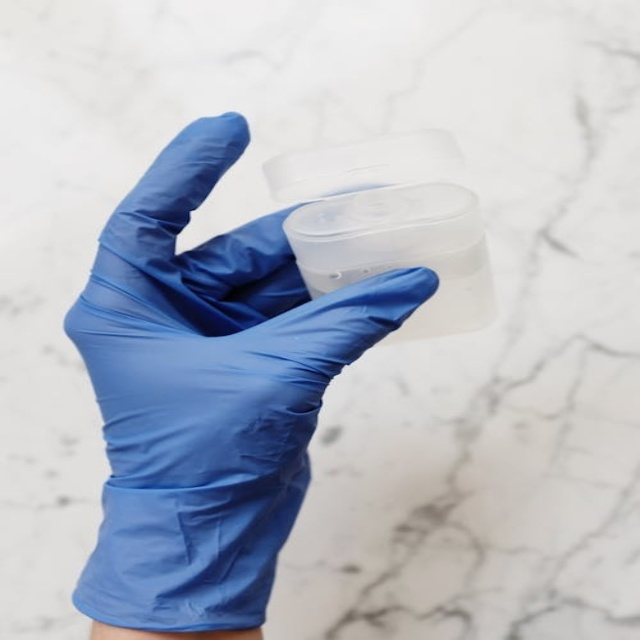Guantes: (60, 110, 442, 634)
